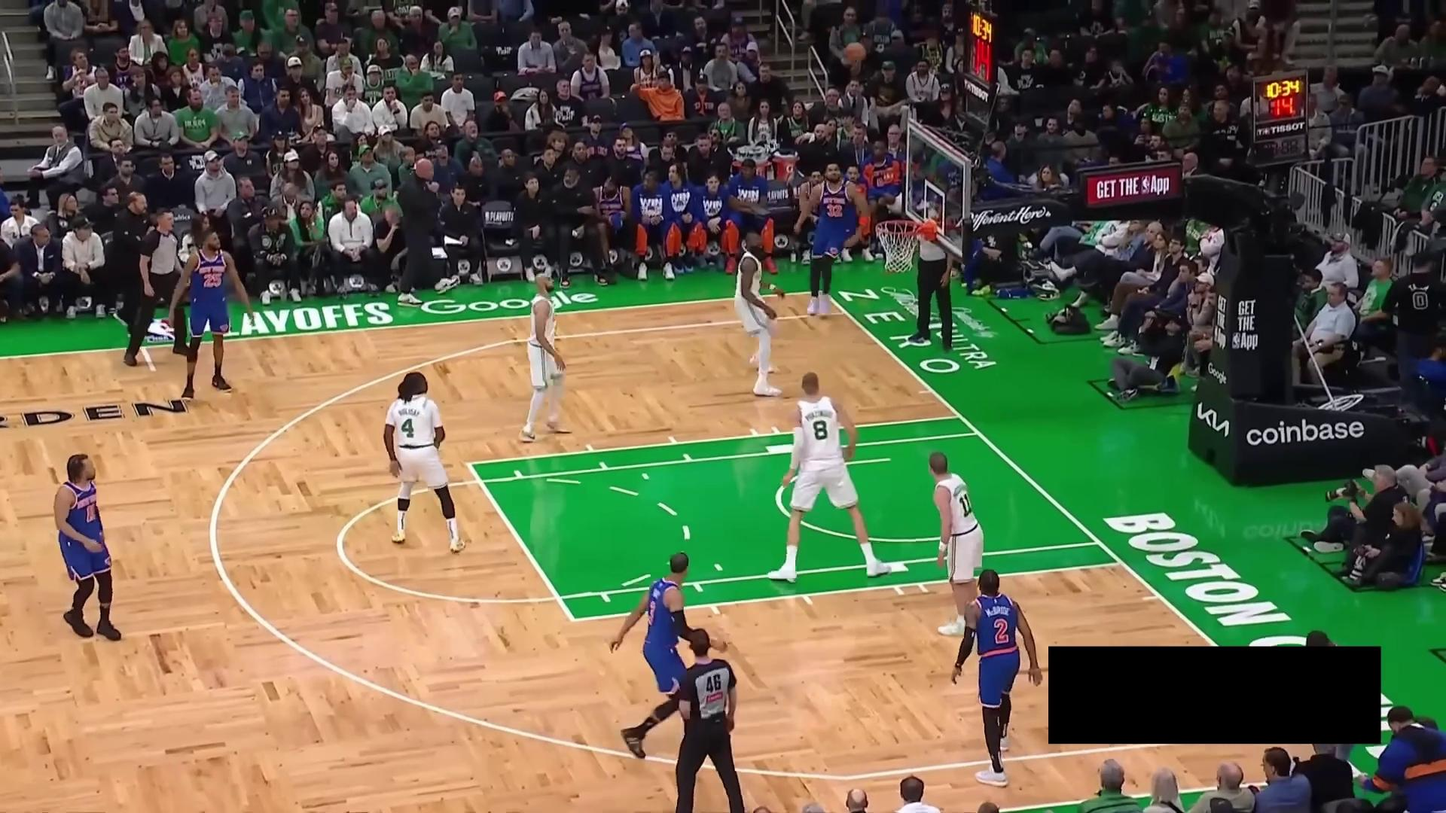ball: (841, 41, 866, 66)
number: (994, 618, 1010, 642), (203, 270, 223, 288), (957, 492, 972, 516), (813, 420, 828, 441), (645, 599, 657, 625), (403, 417, 416, 437), (84, 503, 96, 521), (827, 202, 841, 217)
player: (766, 370, 895, 584), (610, 551, 710, 760), (952, 567, 1041, 788), (382, 371, 468, 553), (170, 227, 254, 400), (54, 453, 122, 641), (928, 451, 985, 637), (518, 262, 573, 444), (801, 159, 863, 318), (734, 222, 786, 399)
referee: (673, 625, 745, 813), (122, 209, 192, 366), (911, 230, 958, 352)
rim: (874, 219, 921, 237)
